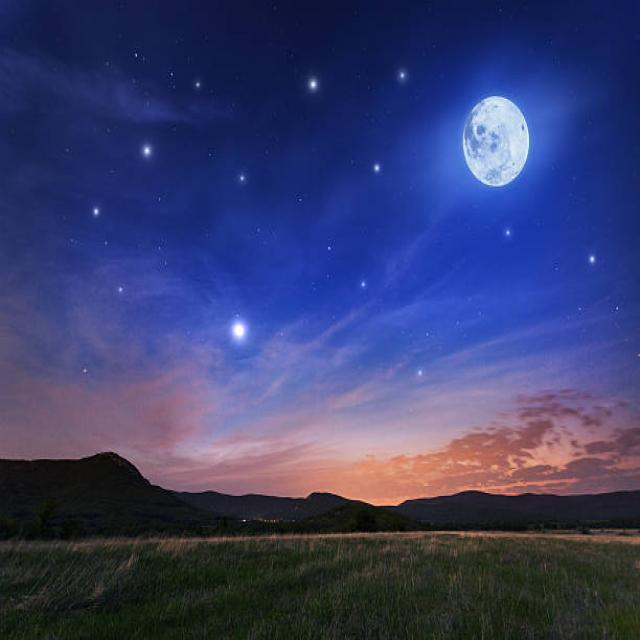moon: (459, 86, 532, 191)
